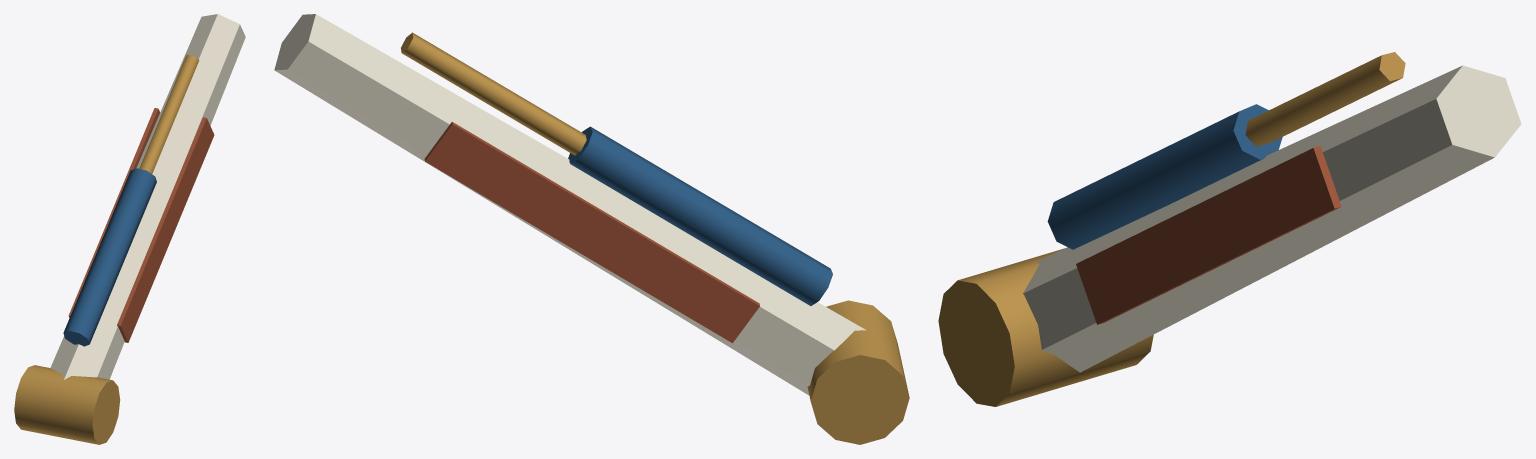
Rendered from rm2_leg_rl_femur.obj.
3 renders of one model, left to right at view 1: azimuth 30°, elevation 25°; view 2: azimuth 150°, elevation 25°; view 3: azimuth 270°, elevation 25°, orthographic. The views are drawn at different scales.
Visible parts, largest first — view 1: rm2_leg_rl_femur; view 2: rm2_leg_rl_femur; view 3: rm2_leg_rl_femur.
Boxes of the visible parts, bbox=[...] form: rm2_leg_rl_femur: bbox=[14, 14, 245, 444]; rm2_leg_rl_femur: bbox=[274, 14, 909, 444]; rm2_leg_rl_femur: bbox=[938, 52, 1521, 406].
Size of the model in its own units: 0.5217 by 0.434 by 0.4054.
